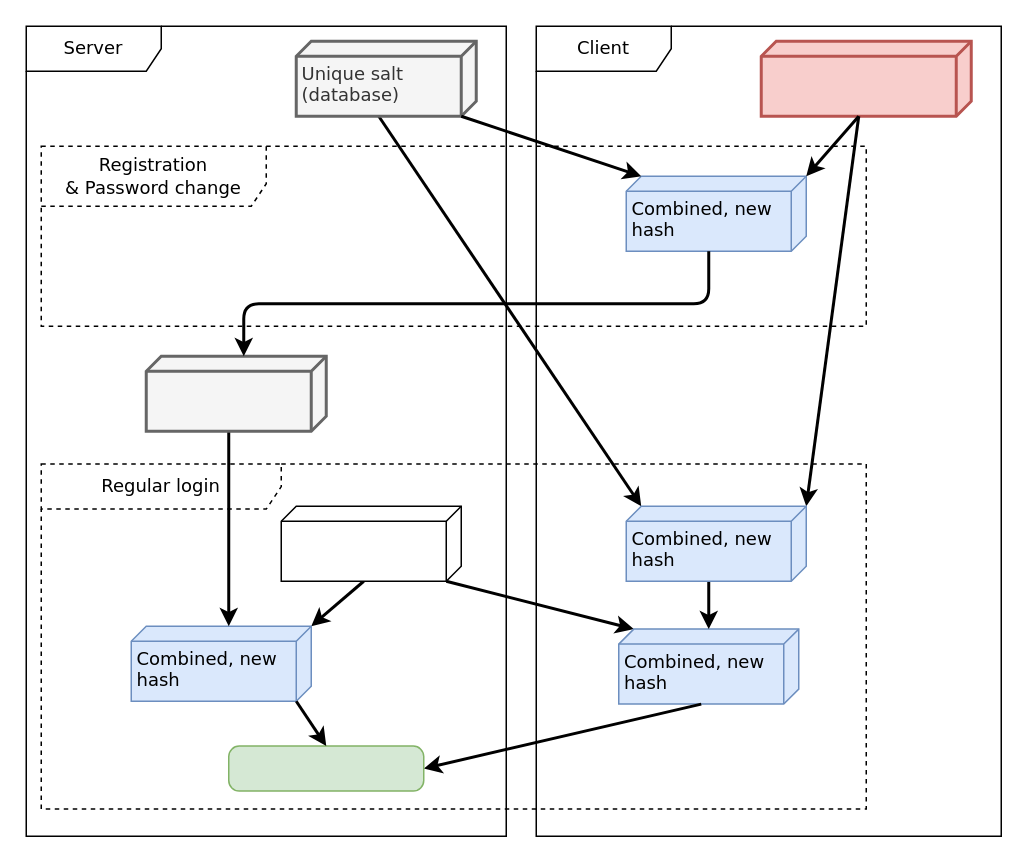
This 1028x863 diagram has some shape labels left out. The centre of each missing label's shape, as x and y in pixels:
"Login on match" belongs at (x=325, y=768).
"Password hash (database)" belongs at (x=235, y=393).
"Plaintext password (brain)" belongs at (x=865, y=78).
"Random text" belongs at (x=370, y=543).
